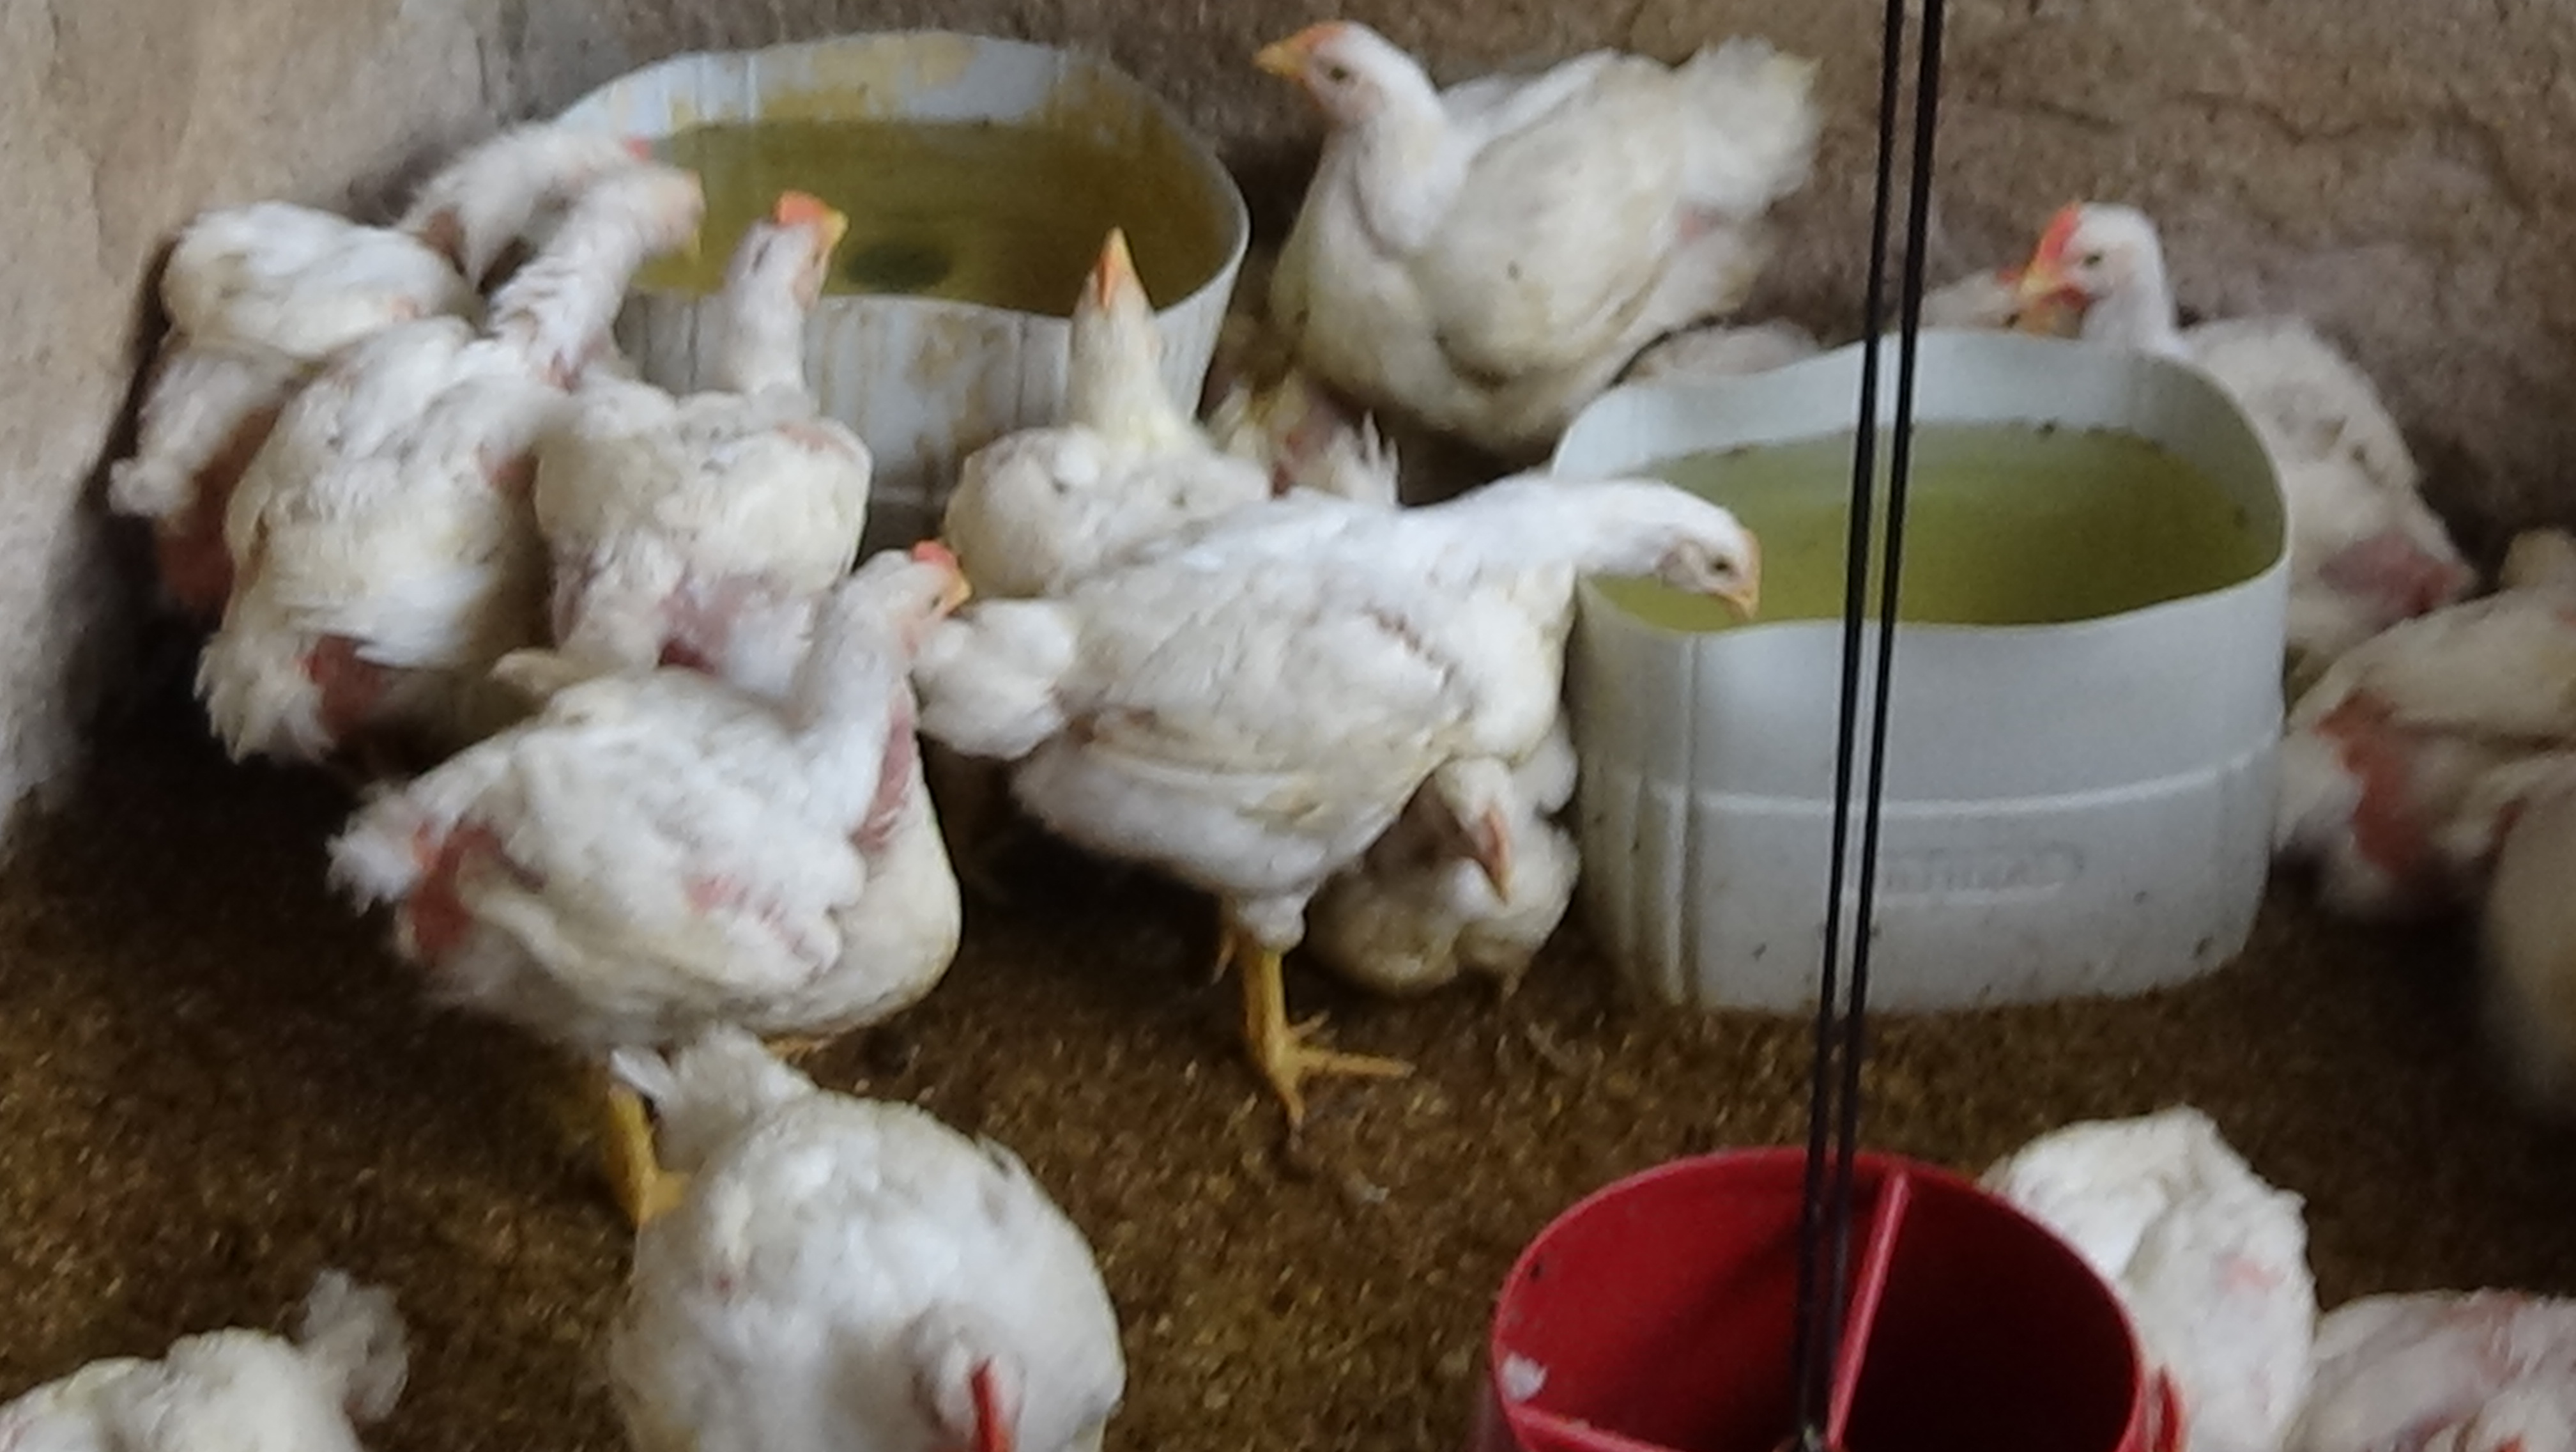Pollos: (338, 496, 964, 1215), (991, 434, 1769, 908), (186, 145, 732, 730), (550, 1023, 1143, 1452), (1240, 14, 1838, 407), (1994, 142, 2468, 629), (71, 89, 609, 483), (541, 207, 885, 641), (2298, 514, 2576, 967), (1987, 1082, 2325, 1452), (1343, 696, 1617, 1041), (991, 221, 1228, 584), (2282, 1243, 2576, 1452)
